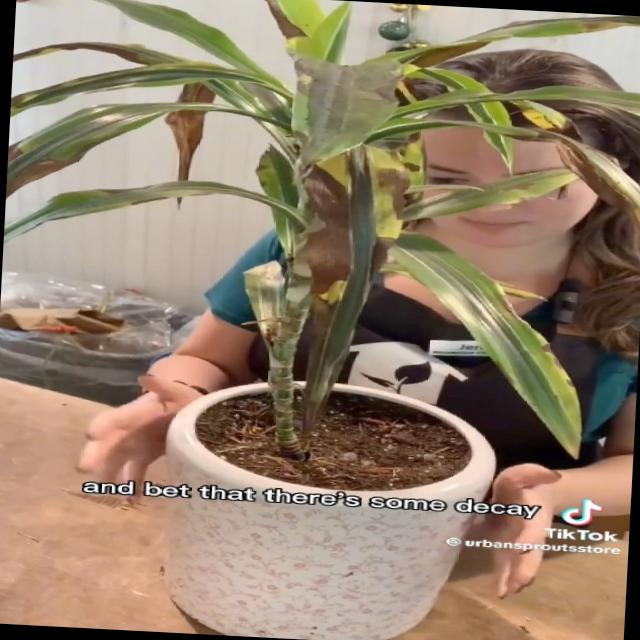lisc_suchy: (422, 288, 580, 462), (6, 102, 274, 191), (87, 0, 280, 87), (477, 126, 640, 229), (267, 62, 386, 187), (368, 16, 640, 67), (10, 65, 280, 116), (392, 170, 581, 227), (299, 149, 351, 327), (4, 186, 158, 239), (362, 141, 422, 268), (161, 83, 212, 209), (257, 0, 347, 65), (15, 42, 204, 67)
roslina_sucha: (4, 0, 640, 463)
